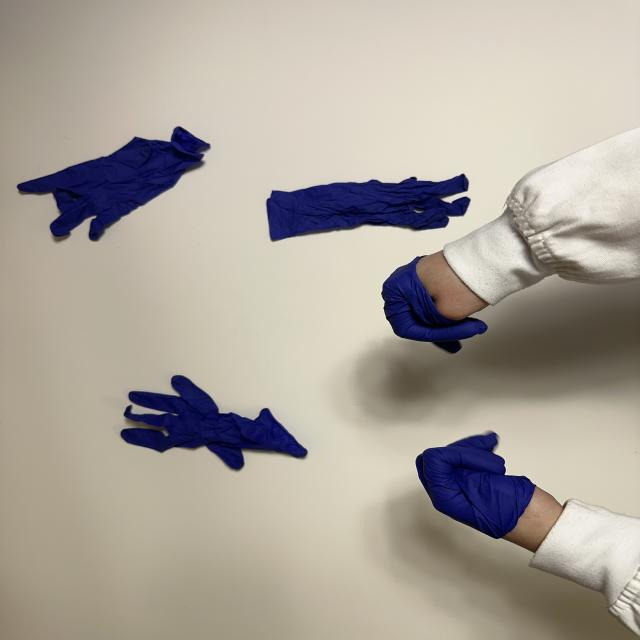glove_not_fitted: (412, 424, 566, 552), (381, 248, 500, 355)
